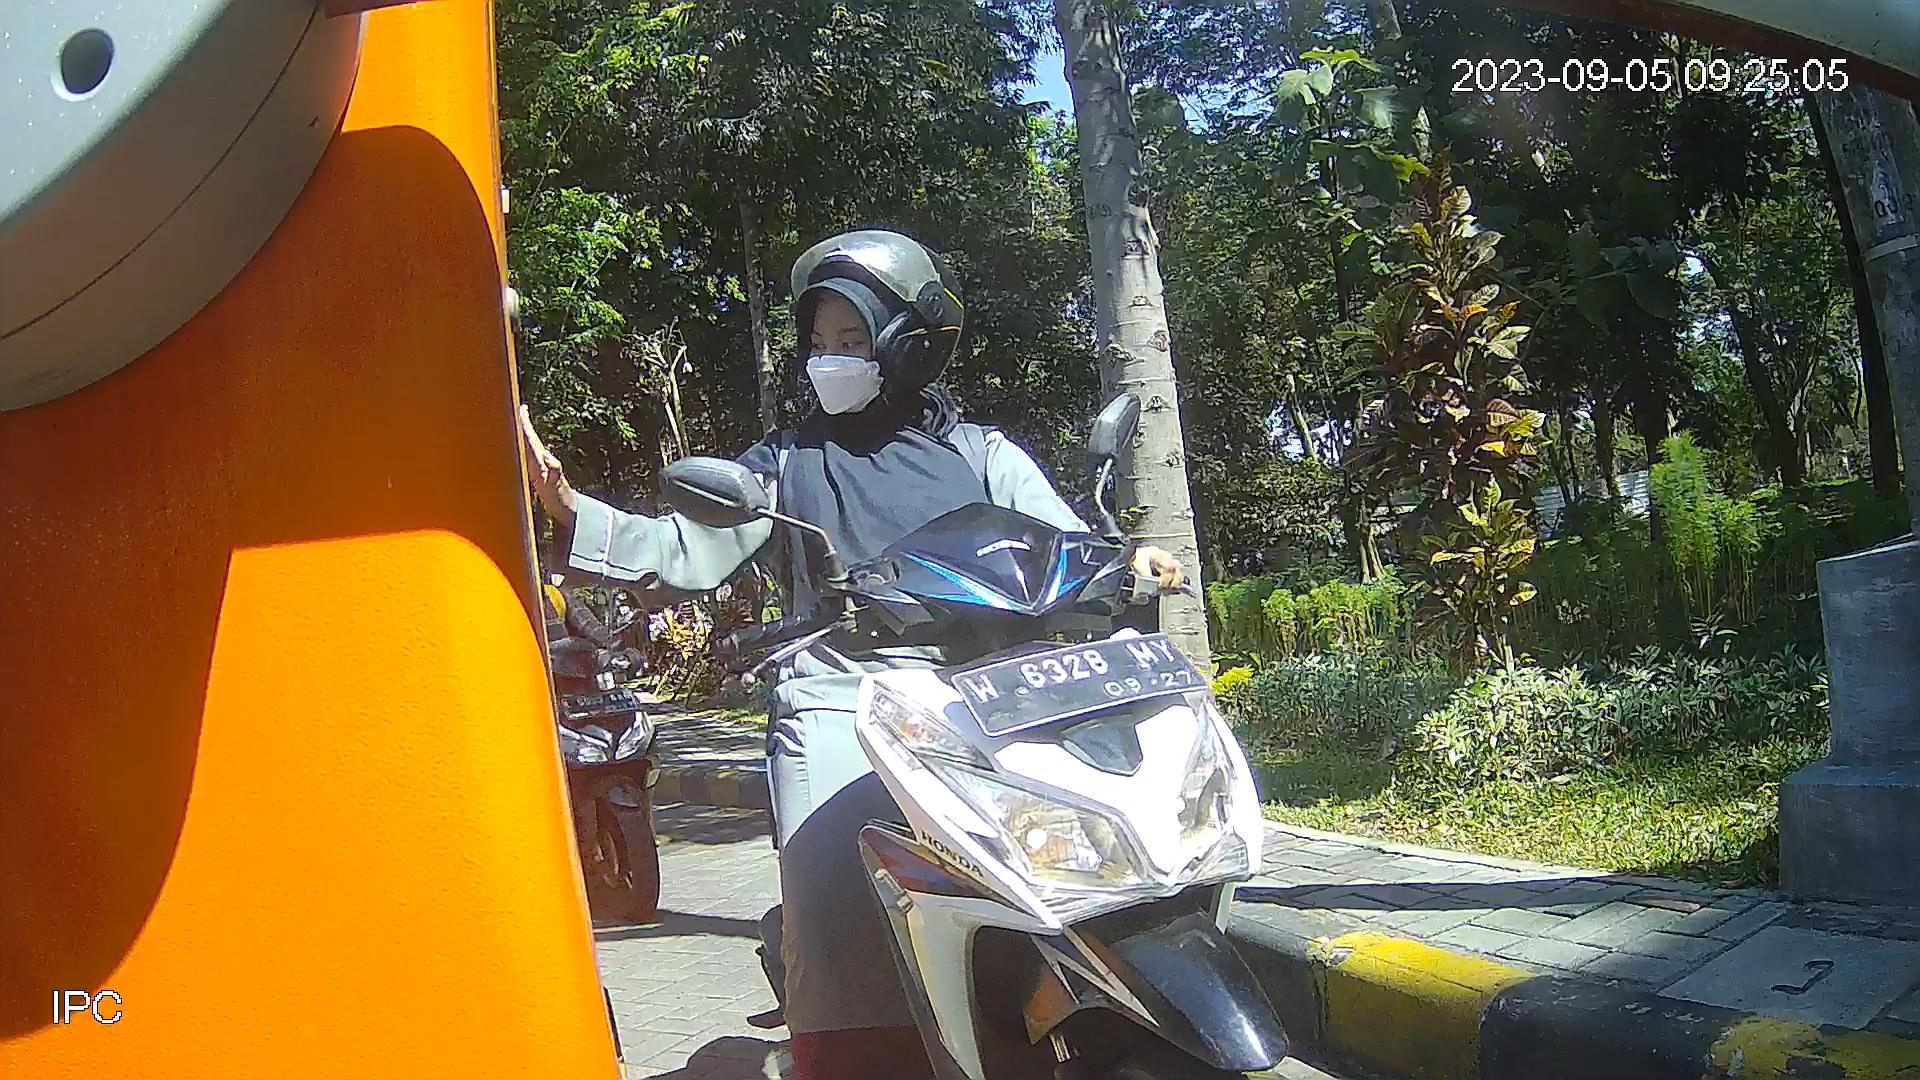plat: (944, 632, 1215, 741)
